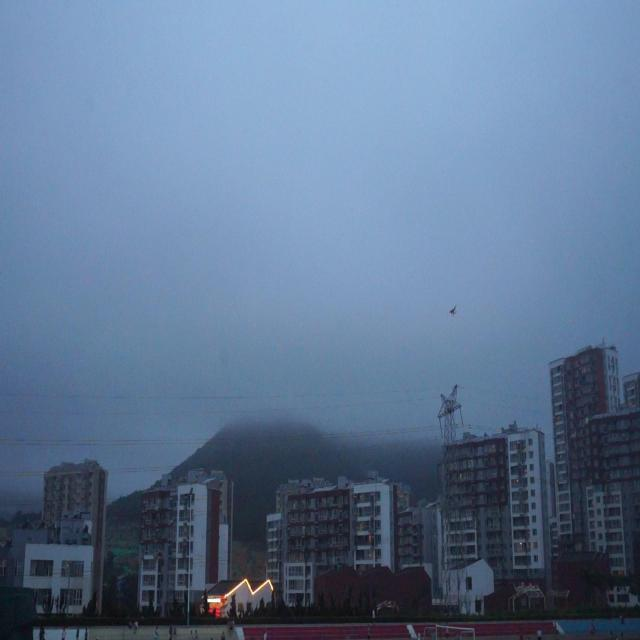drone: (446, 301, 459, 320)
